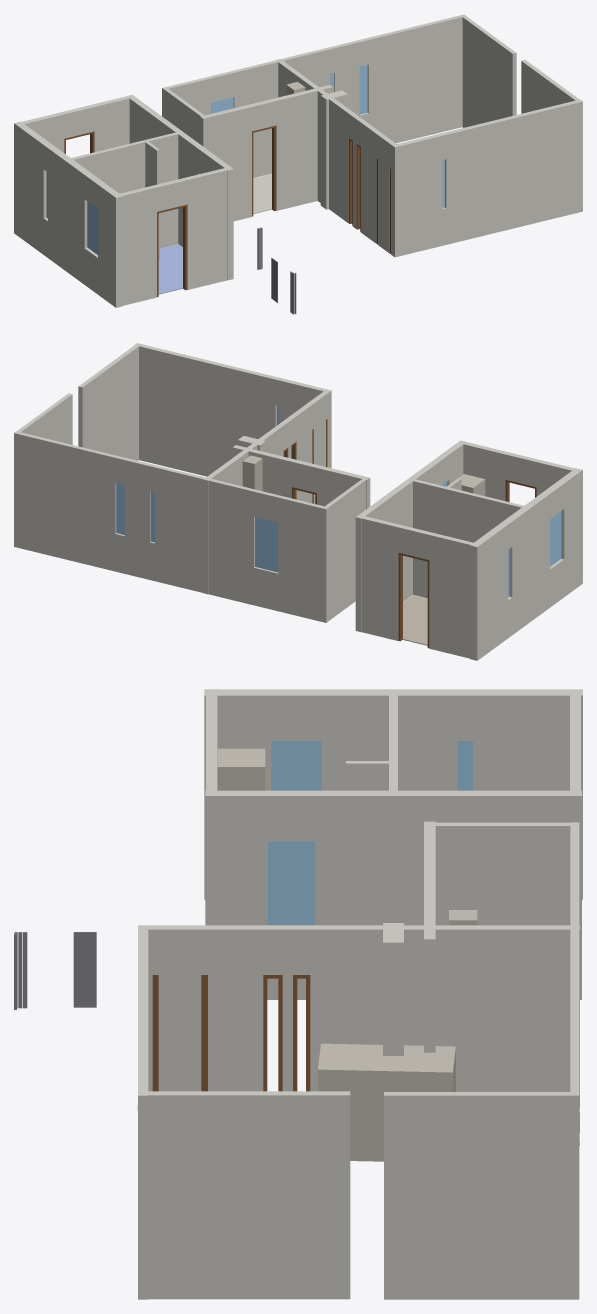
3 renders of one model, top to bottom at view 1: azimuth 30°, elevation 25°; view 2: azimuth 150°, elevation 25°; view 3: azimuth 270°, elevation 25°, orthographic. The views are drawn at different scales.
Parts seen in each view (by area): view 1: walls, floor_2_Bed_Room, railings, floor_1_Undefined, door_1, door_4, window_0, window_6, door_9, door_12; view 2: walls, window_5, floor_0_Storage, door_2, furniture_5_chimney, window_0, window_6, furniture_1_closet; view 3: walls, furniture_4_fireplace, window_3, railings, window_0, furniture_0_closet, door_12, door_9, door_10, door_13, window_8.
Boxes of the visible parts, bbox=[...] form: walls: bbox=[14, 14, 582, 307]; floor_2_Bed_Room: bbox=[158, 244, 182, 294]; railings: bbox=[257, 227, 296, 314]; floor_1_Undefined: bbox=[253, 174, 271, 213]; door_1: bbox=[157, 204, 187, 296]; door_4: bbox=[252, 125, 276, 216]; window_0: bbox=[87, 201, 97, 254]; window_6: bbox=[359, 65, 367, 114]; door_9: bbox=[348, 138, 352, 225]; door_12: bbox=[356, 144, 360, 231]; walls: bbox=[14, 343, 582, 660]; window_5: bbox=[255, 517, 278, 572]; floor_0_Storage: bbox=[403, 595, 427, 645]; door_2: bbox=[398, 552, 429, 648]; furniture_5_chimney: bbox=[242, 455, 262, 491]; window_0: bbox=[550, 511, 561, 566]; window_6: bbox=[116, 483, 124, 534]; furniture_1_closet: bbox=[459, 474, 485, 495]; walls: bbox=[138, 689, 582, 1299]; furniture_4_fireplace: bbox=[318, 1043, 455, 1161]; window_3: bbox=[267, 841, 315, 925]; railings: bbox=[14, 932, 96, 1009]; window_0: bbox=[271, 741, 321, 790]; furniture_0_closet: bbox=[217, 748, 265, 790]; door_12: bbox=[263, 975, 282, 1091]; door_9: bbox=[293, 975, 310, 1091]; door_10: bbox=[201, 975, 207, 1091]; door_13: bbox=[152, 975, 158, 1091]; window_8: bbox=[457, 741, 472, 790].
Size of the model in its own units: 11.53 by 2.72 by 6.82.
